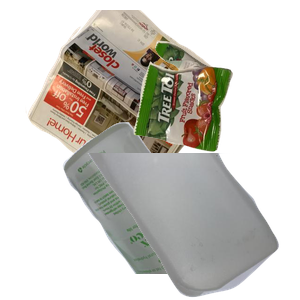glass: (60, 120, 300, 300)
paper: (23, 10, 245, 190)
plastic: (84, 153, 300, 300)
trash: (131, 38, 300, 182)
